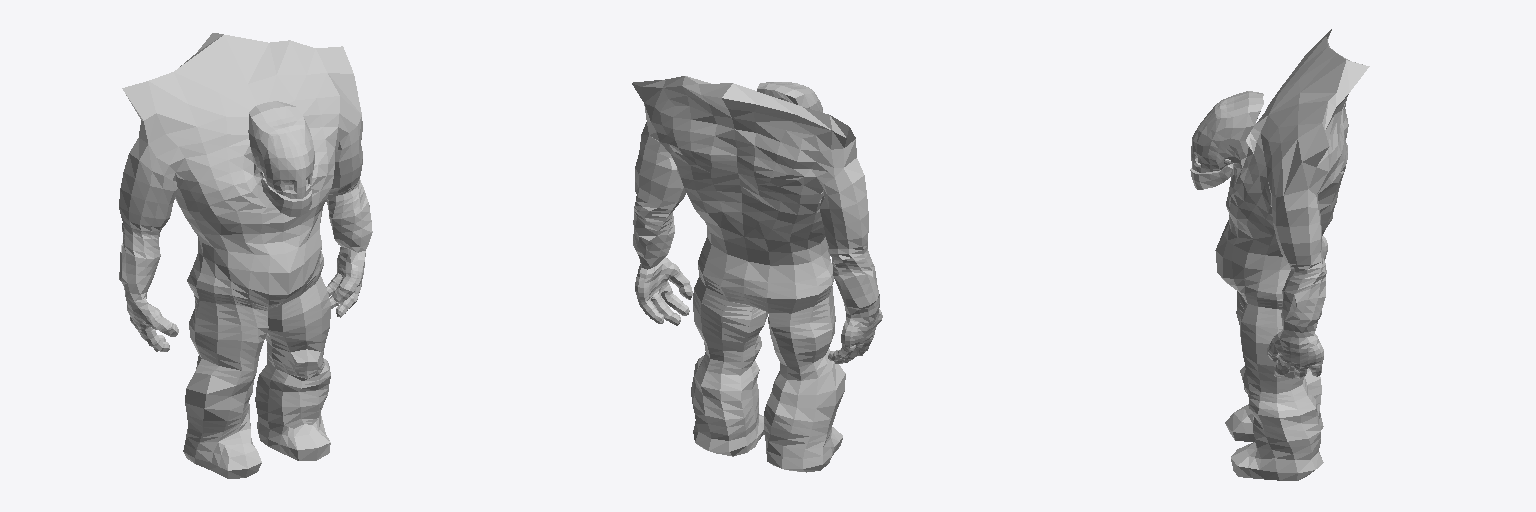
File: golem_000002.obj
The picture shows the model from 3 angles: view 1: azimuth 30°, elevation 25°; view 2: azimuth 150°, elevation 25°; view 3: azimuth 270°, elevation 25°; orthographic projection.
Parts seen in each view (by area): view 1: golem; view 2: golem; view 3: golem.
Part boxes in pixels (x1,y1,x2,y2): golem: (119, 33, 372, 478); golem: (632, 76, 882, 472); golem: (1190, 29, 1369, 480).
Size of the model in its own units: 7.35 by 11.26 by 4.65.